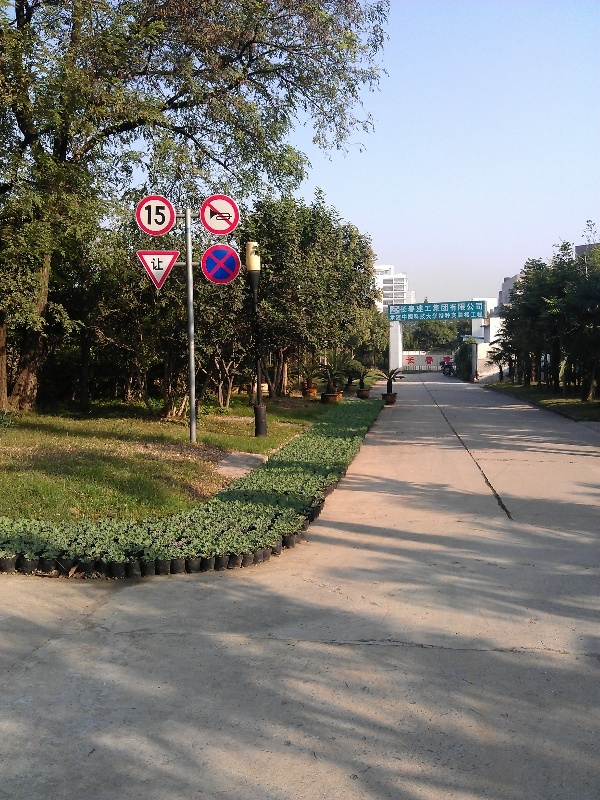text: (145, 206, 160, 225), (401, 302, 416, 314), (417, 302, 432, 314), (433, 302, 448, 314), (449, 302, 464, 314), (465, 302, 480, 314), (401, 312, 416, 321), (417, 312, 432, 321), (433, 312, 448, 321), (449, 312, 464, 321), (465, 312, 480, 321), (417, 356, 432, 365), (433, 356, 448, 365), (151, 258, 160, 271), (390, 312, 400, 321), (161, 206, 165, 225), (408, 356, 416, 365), (161, 258, 164, 271), (481, 302, 484, 314), (449, 356, 453, 365), (481, 312, 484, 321)
